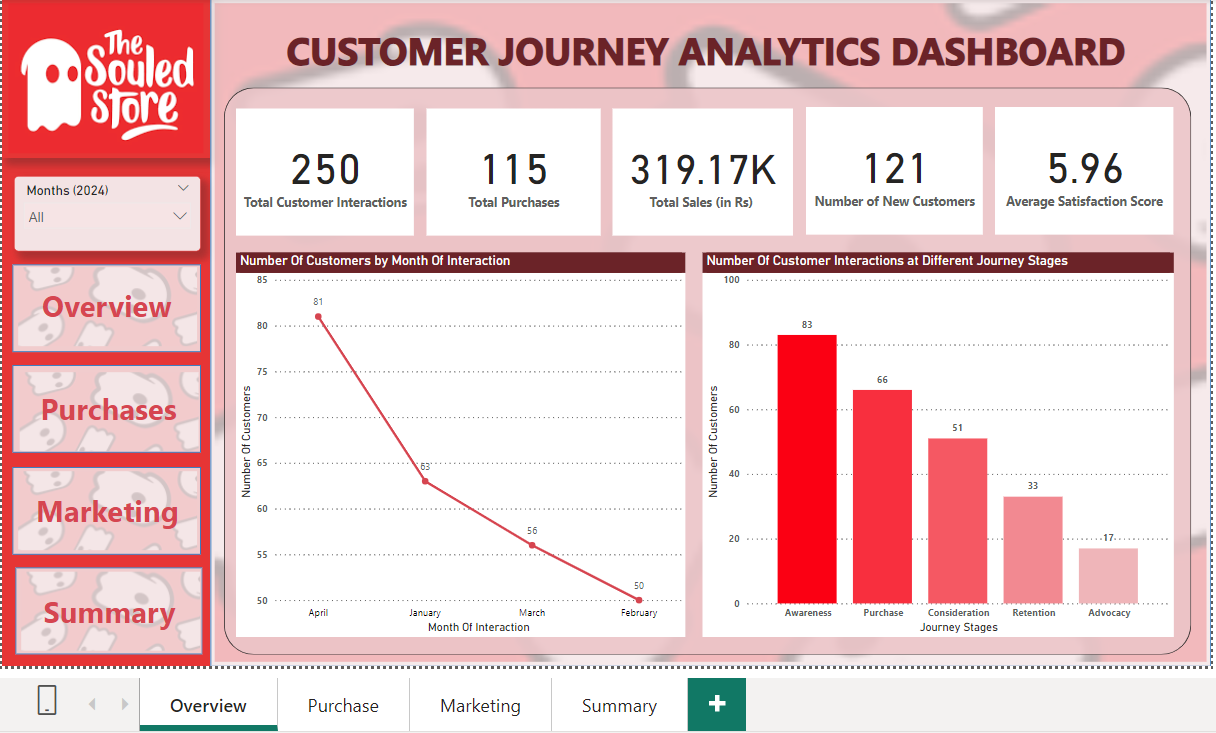

This screenshot's page, from the dashboard's own definition file:
{"tool":"powerbi","page":{"name":"Overview","canvas":[1542,850],"ordinal":0},"visuals":[{"type":"image","box":[265.8,0,1274.5,849.7],"z":0},{"type":"shape","box":[0,0,265.5,850.8],"z":1000},{"type":"image","box":[0,0,265,201.7],"z":2000},{"type":"slicer","fields":{"Values":["cleaned_data.Month Of Interaction"]},"box":[14.4,226.2,238.3,96.3],"z":3000},{"type":"image","box":[14.4,337,238.3,110.7],"z":4000},{"type":"shape","box":[13.3,337.8,240,111.7],"z":5000},{"type":"textbox","box":[45.7,358.6,219,65],"z":6000},{"type":"image","box":[16.8,469.3,238.3,110.7],"z":7000},{"type":"shape","box":[13.3,467,240,111.7],"z":8000},{"type":"image","box":[14.4,596.9,238.3,110.7],"z":9000},{"type":"shape","box":[13.3,596.1,240,111.7],"z":10000},{"type":"textbox","box":[43.3,491,219,62.6],"z":11000},{"type":"textbox","box":[38.5,621,219,62.6],"z":12000},{"type":"shape","box":[265.5,0,1275.2,850.8],"z":13000},{"type":"shape","box":[282.5,112.6,1232.6,722.9],"z":14000},{"type":"textbox","box":[358,26.1,1156.5,74.4],"z":15000},{"type":"card","title":"Total Customer Interactions","fields":{"Values":["CountNonNull(cleaned_data.CustomerID)"]},"box":[298.3,140,226.7,161.7],"z":16000},{"type":"card","fields":{"Values":["CountNonNull(cleaned_data.ProductID)"]},"box":[540.8,139.4,221.8,161.9],"z":17000},{"type":"card","fields":{"Values":["Sum(cleaned_data.Total Amount (in Rs))"]},"box":[778.4,139.7,229.9,161.9],"z":18000},{"type":"card","fields":{"Values":["Avg(cleaned_data.Feedback Rating)"]},"box":[1265.1,136.8,227.3,162.9],"z":19000},{"type":"columnChart","title":"Number Of Customer Interactions at Different Journey Stages","fields":{"Category":["cleaned_data.Journey Stage"],"Y":["CountNonNull(cleaned_data.CustomerID)"]},"box":[892.8,323.9,600.5,489.9],"z":20000},{"type":"card","fields":{"Values":["cleaned_data.New Customers"]},"box":[1024.1,136.8,225.3,162.9],"z":21000},{"type":"lineChart","fields":{"Y":["CountNonNull(cleaned_data.CustomerID)"],"Category":["cleaned_data.Month Of Interaction"]},"box":[298.3,323.9,572.8,489.9],"z":22000},{"type":"image","box":[19.3,724.5,238.3,110.7],"z":22500},{"type":"shape","box":[16.8,725.3,238.3,110.7],"z":23000},{"type":"textbox","box":[47.4,748.6,219.3,65.2],"z":25000}]}

Visuals, with their boxes on the page's 1542x850 design canvas (x1, y1, x2, y2). These are canvas units, not pixel positions in the 1216x733 screenshot, which may show the page scaled, cropped or inside an application window:
image: bbox=[266, 0, 1540, 850]
shape: bbox=[0, 0, 266, 851]
image: bbox=[0, 0, 265, 202]
slicer - cleaned_data.Month Of Interaction: bbox=[14, 226, 253, 322]
image: bbox=[14, 337, 253, 448]
shape: bbox=[13, 338, 253, 450]
textbox: bbox=[46, 359, 265, 424]
image: bbox=[17, 469, 255, 580]
shape: bbox=[13, 467, 253, 579]
image: bbox=[14, 597, 253, 708]
shape: bbox=[13, 596, 253, 708]
textbox: bbox=[43, 491, 262, 554]
textbox: bbox=[38, 621, 258, 684]
shape: bbox=[266, 0, 1541, 851]
shape: bbox=[282, 113, 1515, 836]
textbox: bbox=[358, 26, 1514, 100]
"Total Customer Interactions" card: bbox=[298, 140, 525, 302]
card - CountNonNull(cleaned_data.ProductID): bbox=[541, 139, 763, 301]
card - Sum(cleaned_data.Total Amount (in Rs)): bbox=[778, 140, 1008, 302]
card - Avg(cleaned_data.Feedback Rating): bbox=[1265, 137, 1492, 300]
"Number Of Customer Interactions at Different Journey Stages" columnChart: bbox=[893, 324, 1493, 814]
card - cleaned_data.New Customers: bbox=[1024, 137, 1249, 300]
lineChart - CountNonNull(cleaned_data.CustomerID) x cleaned_data.Month Of Interaction: bbox=[298, 324, 871, 814]
image: bbox=[19, 724, 258, 835]
shape: bbox=[17, 725, 255, 836]
textbox: bbox=[47, 749, 267, 814]
